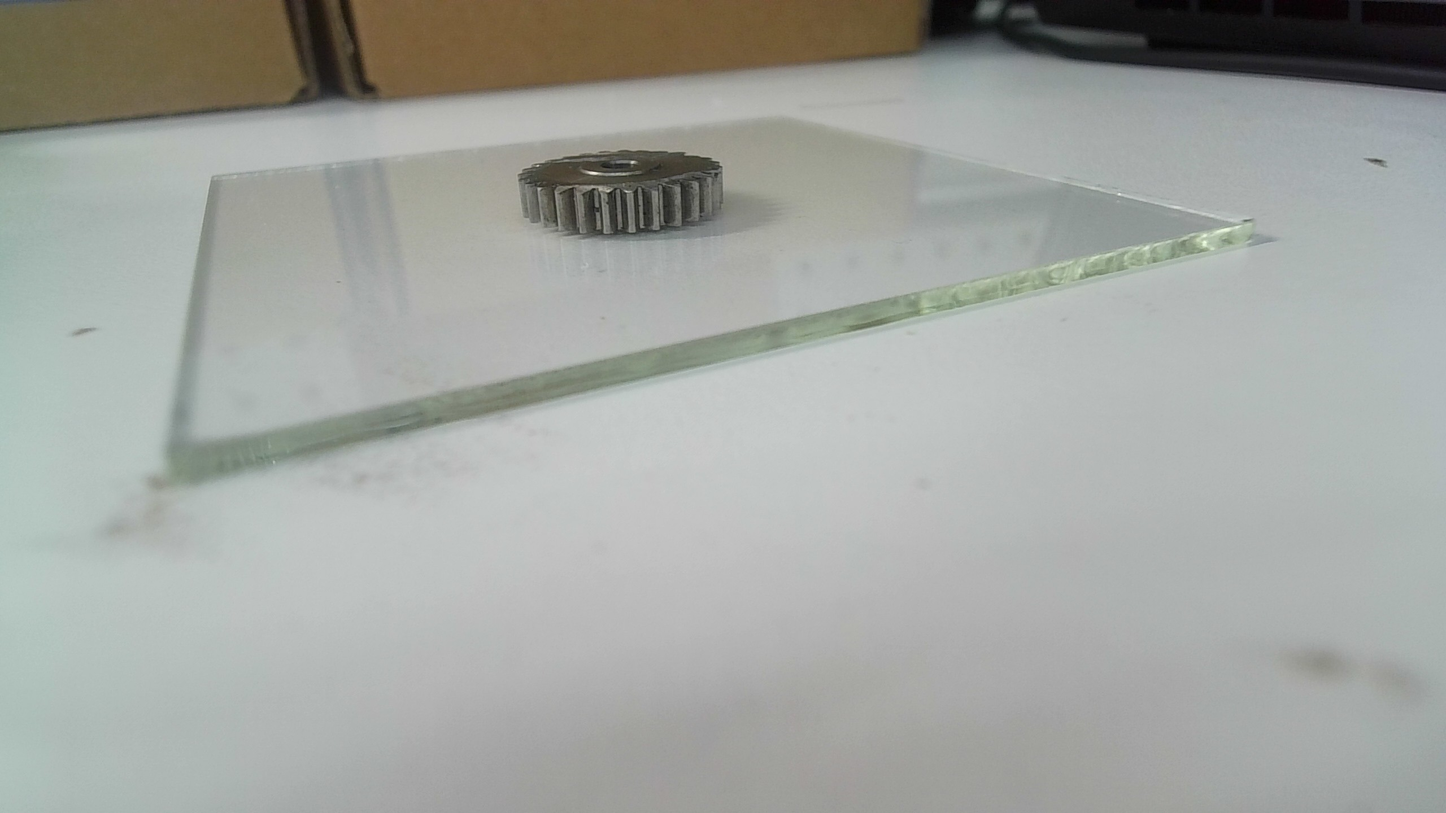gear: (516, 146, 730, 234)
